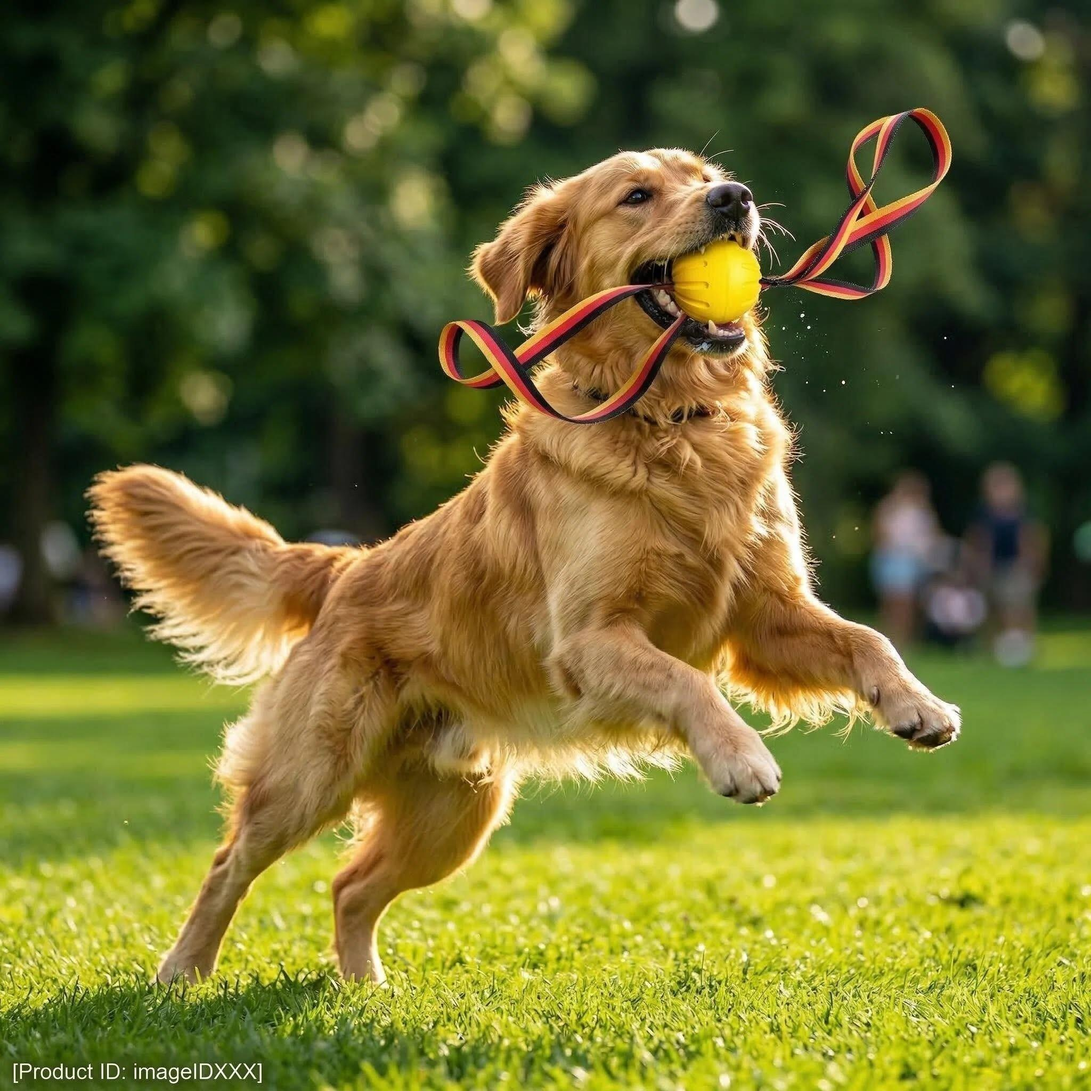adult_dog: (84, 144, 966, 991)
non-dog: (954, 462, 1054, 670), (868, 467, 959, 652)
